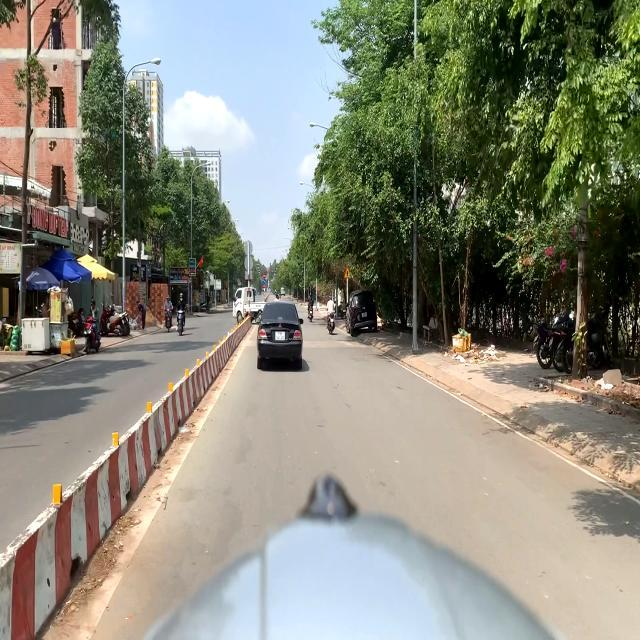Cam di nguoc chieu: (262, 272, 266, 278)
Giao nhau voi duong khong uu tien: (344, 267, 351, 279)
Vong chuong ngai vat sang phai: (262, 278, 266, 284)
